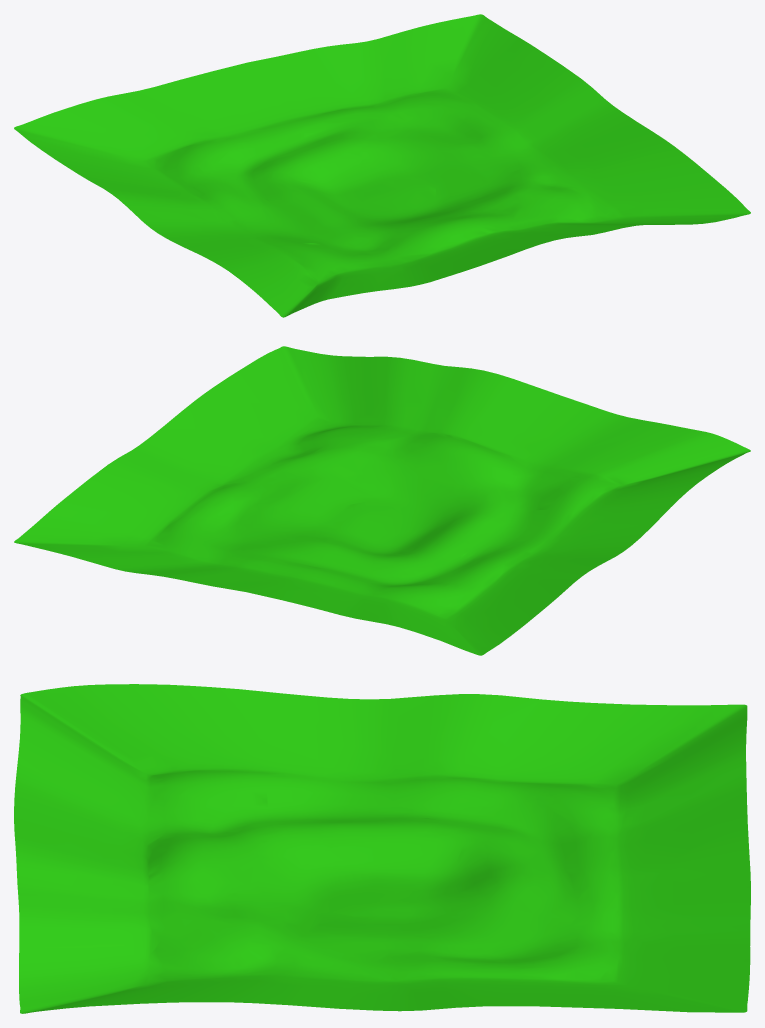
Rendered from ground.obj.
3 views of the same model, one above another, from view 1: azimuth 30°, elevation 25°; view 2: azimuth 150°, elevation 25°; view 3: azimuth 270°, elevation 25° (orthographic). The views are drawn at different scales.
Parts seen in each view (by area): view 1: Plane_Plane.001; view 2: Plane_Plane.001; view 3: Plane_Plane.001.
Boxes of the visible parts, x1,y1,x2,y2 form: Plane_Plane.001: [14, 14, 750, 317]; Plane_Plane.001: [14, 346, 750, 655]; Plane_Plane.001: [14, 684, 750, 1013].
Bounding box in the file's own units: 36.78 × 3.69 × 36.88.
